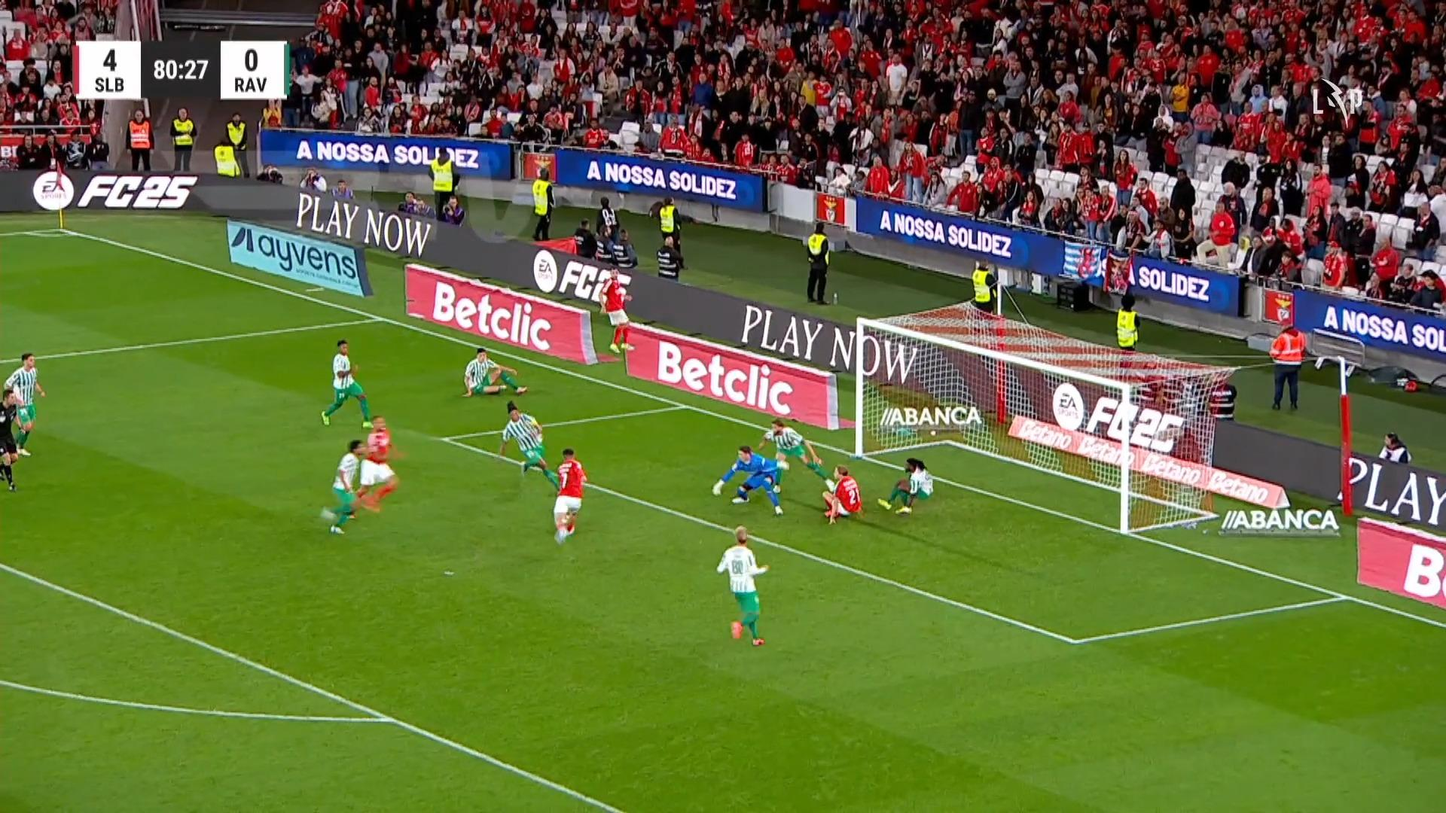goalkeeper: (711, 444, 789, 516)
player: (715, 525, 770, 647), (498, 400, 560, 493), (319, 438, 375, 534), (319, 338, 374, 428), (3, 351, 45, 457), (354, 416, 399, 512), (756, 418, 823, 473), (551, 447, 587, 544), (461, 346, 528, 397), (876, 457, 934, 514), (598, 266, 635, 354), (822, 464, 863, 522), (807, 459, 840, 523)
referee: (0, 387, 31, 492)
